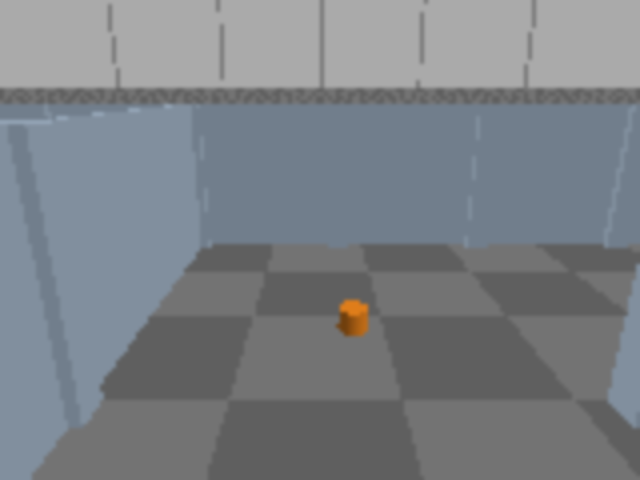puck: (338, 301, 369, 336)
